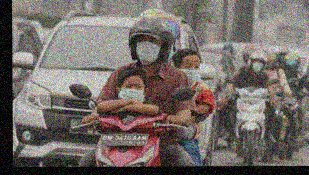with_mask: (134, 34, 162, 65), (117, 80, 145, 102), (180, 60, 201, 85), (251, 58, 264, 73)
